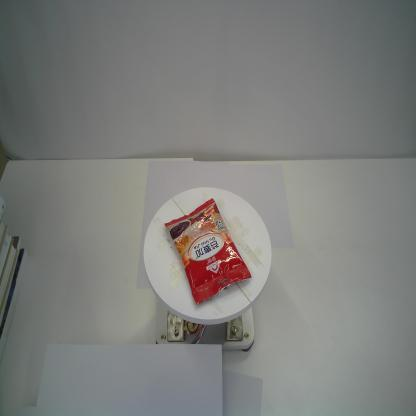Instant Drink: (164, 196, 253, 308)
